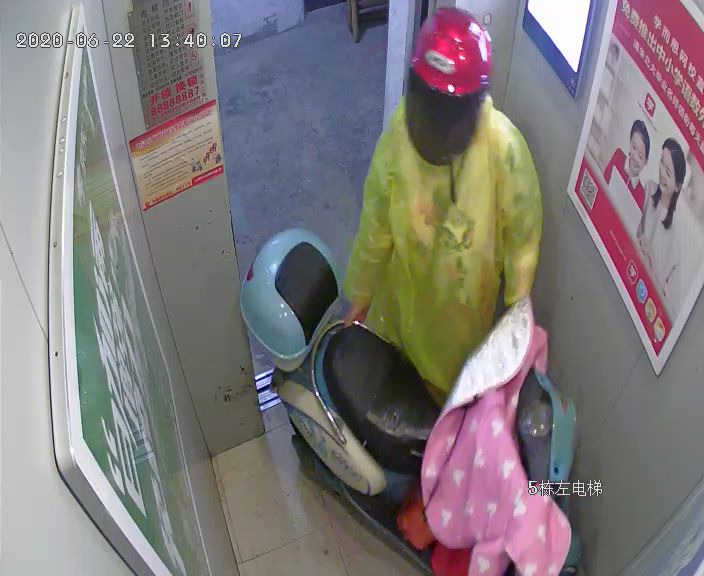Electric-bicycle: (240, 229, 575, 573)
